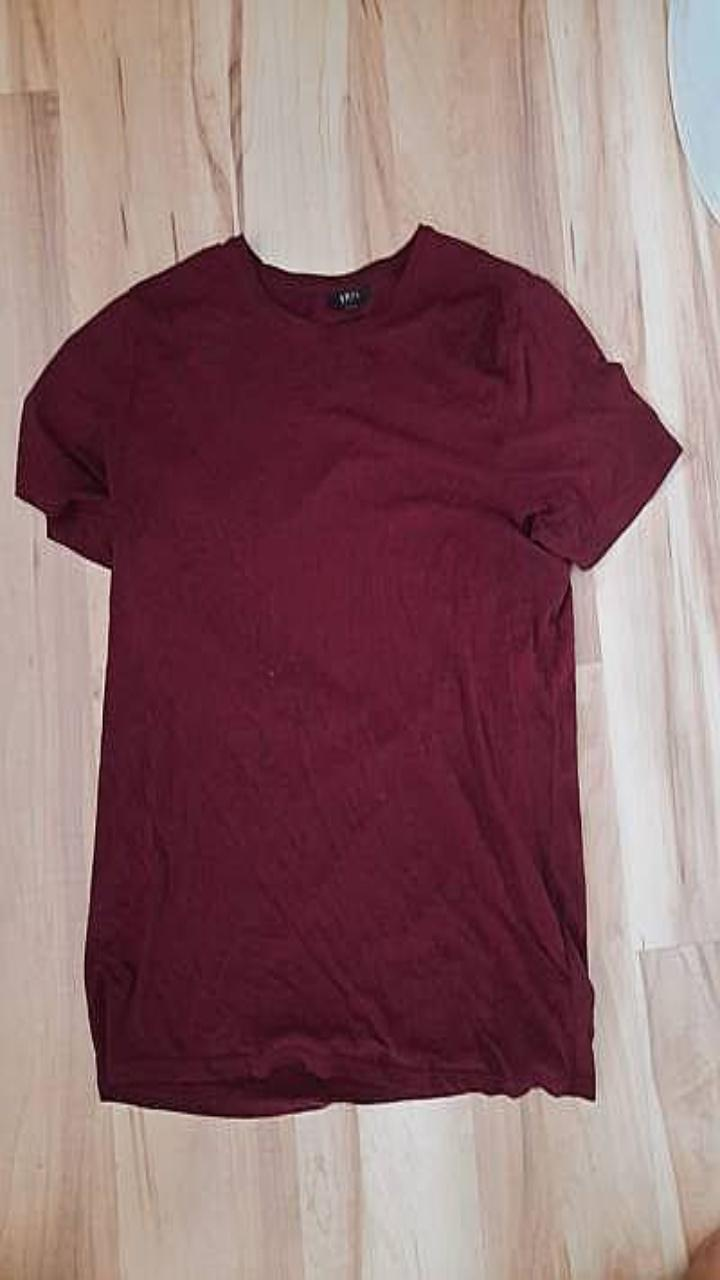T-Shirt: (17, 223, 681, 1115)
